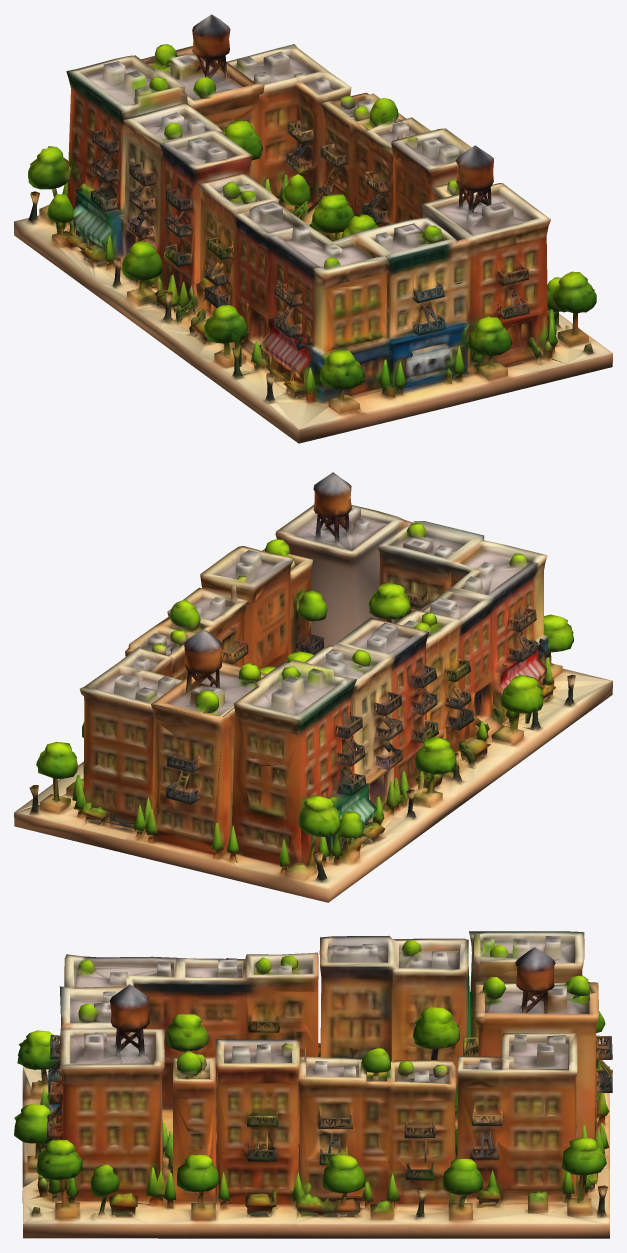
Rendered from block-mixed-a.glb.
3 renders of one model, top to bottom at view 1: azimuth 30°, elevation 25°; view 2: azimuth 150°, elevation 25°; view 3: azimuth 270°, elevation 25°, orthographic. The views are drawn at different scales.
Parts seen in each view (by area): view 1: low; view 2: low; view 3: low.
Boxes of the visible parts, x1,y1,x2,y2 form: low: (14, 14, 612, 443); low: (14, 472, 612, 902); low: (14, 931, 612, 1238).
Bounding box in the file's own units: 0.6348 × 0.387 × 0.978.
1 material, 1 textured.
